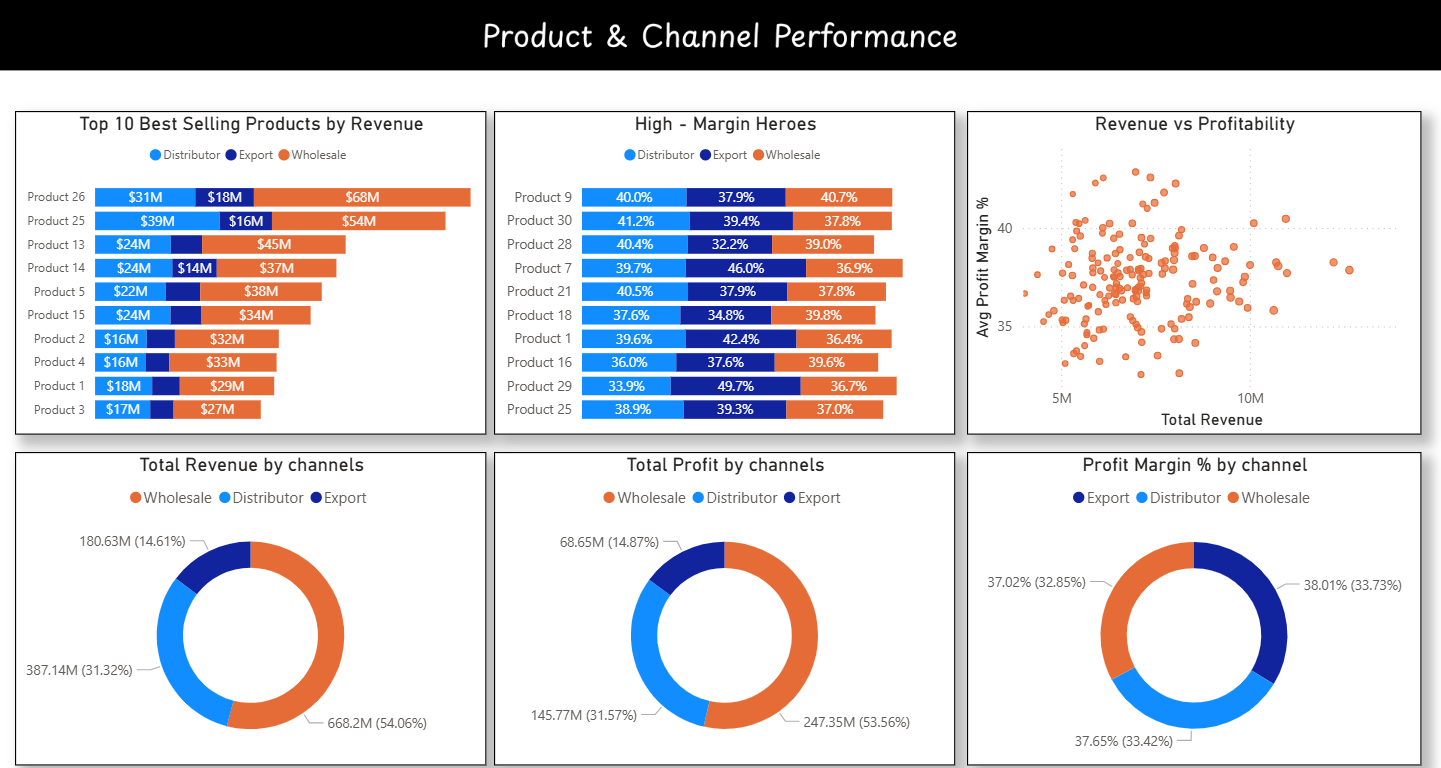

Layout of this report page (visuals, bound fields, positions):
{"tool":"powerbi","page":{"name":"Product & Channel Performance","canvas":[1280,720],"ordinal":1},"visuals":[{"type":"barChart","title":"Top 10 Best Selling Products by Revenue","fields":{"Y":["Measures_.Total Revenue"],"Category":["Sales_data.product_name"],"Series":["Sales_data.channel"]},"box":[15.1,99.3,417.6,287.3],"z":0},{"type":"barChart","title":"High - Margin Heroes","fields":{"Category":["Sales_data.product_name"],"Y":["Measures_.Profit Margin %"],"Series":["Sales_data.channel"]},"box":[439.8,99.3,408.8,287.3],"z":1000},{"type":"scatterChart","title":"Revenue vs Profitability","fields":{"Y":["Customers Summary.Avg Profit Margin %"],"X":["Customers Summary.Total Revenue"],"Size":["Sum(Customers Summary.Order Count)"]},"box":[859.2,99.3,402.6,287.3],"z":2000},{"type":"donutChart","title":"Total Revenue by channels","fields":{"Category":["Sales_data.channel"],"Y":["Measures_.Total Revenue"]},"box":[15.1,401.7,417.6,277.5],"z":3000},{"type":"donutChart","title":"Total Profit by channels","fields":{"Category":["Sales_data.channel"],"Y":["Measures_.Total Profit"]},"box":[439.8,401.7,408.8,277.5],"z":4000},{"type":"donutChart","fields":{"Category":["Sales_data.channel"],"Y":["Measures_.Profit Margin %"]},"box":[859.2,401.7,402.6,277.5],"z":5000}]}

Visuals, with their boxes on the page's 1280x720 design canvas (x1, y1, x2, y2). These are canvas units, not pixel positions in the 1441x768 screenshot, which may show the page scaled, cropped or inside an application window:
"Top 10 Best Selling Products by Revenue" barChart: (left=15, top=99, right=433, bottom=387)
"High - Margin Heroes" barChart: (left=440, top=99, right=849, bottom=387)
"Revenue vs Profitability" scatterChart: (left=859, top=99, right=1262, bottom=387)
"Total Revenue by channels" donutChart: (left=15, top=402, right=433, bottom=679)
"Total Profit by channels" donutChart: (left=440, top=402, right=849, bottom=679)
donutChart - Sales_data.channel x Measures_.Profit Margin %: (left=859, top=402, right=1262, bottom=679)
